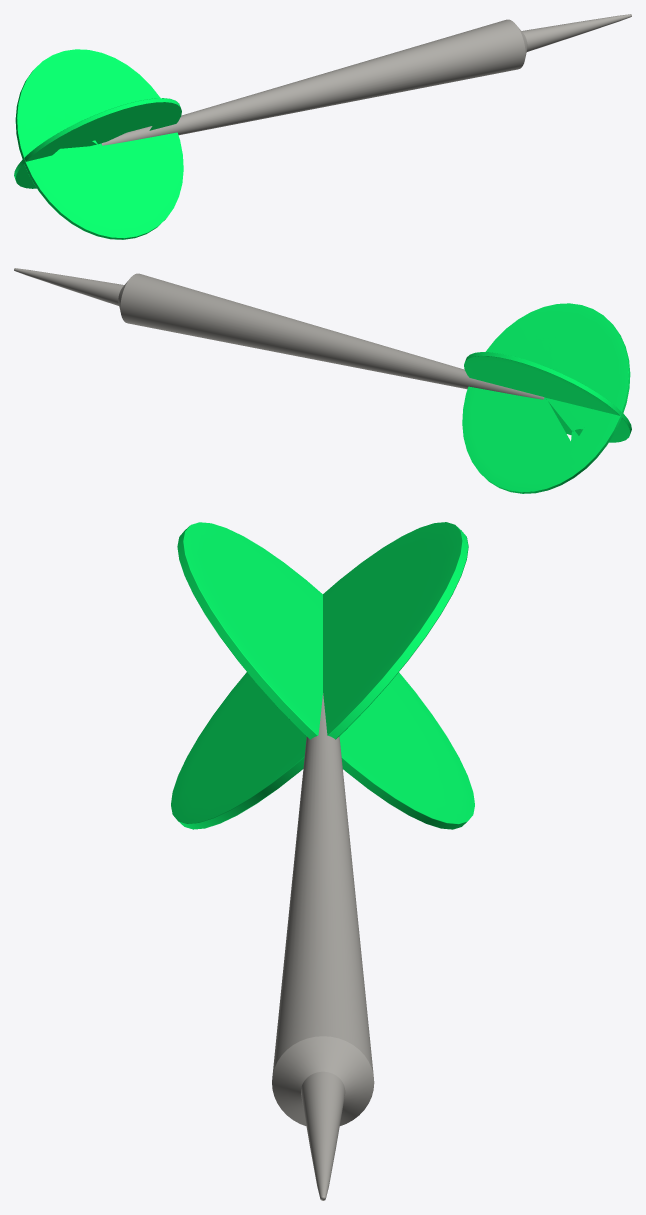
File: dart_resized.obj
3 views of the same model, one above another, from view 1: azimuth 30°, elevation 25°; view 2: azimuth 150°, elevation 25°; view 3: azimuth 270°, elevation 25° (orthographic). The views are drawn at different scales.
Visible parts, largest first — view 1: Design Layer-1; view 2: Design Layer-1; view 3: Design Layer-1.
Boxes of the visible parts, box(x1,y1,x2,y2) form: Design Layer-1: box(14, 14, 631, 239); Design Layer-1: box(14, 268, 631, 493); Design Layer-1: box(171, 522, 474, 1200).
Bounding box in the file's own units: 24.05 × 5.11 × 5.22.
2 materials, 2 textured.
